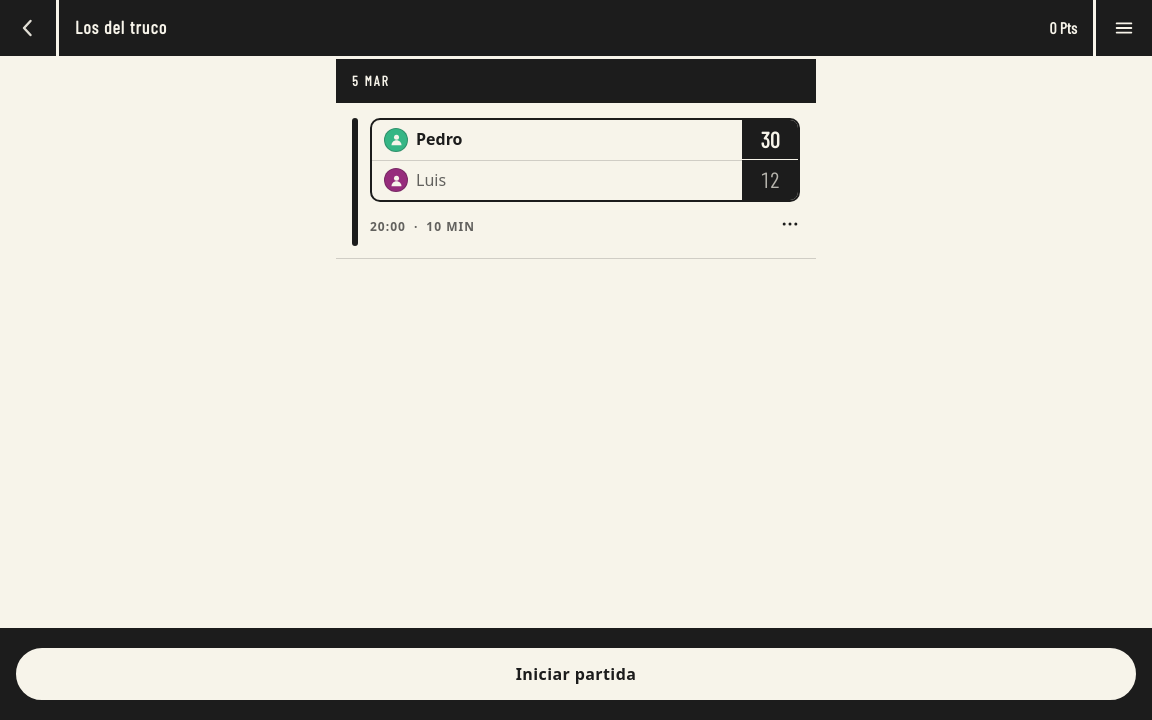
cancelar y restaurar partidas › quien no es administrador ni la registró no ve las opciones
The image size is (1152, 720).
Expected: the element with test id "partida" is shown, x1=336 y1=106 x2=816 y2=259
El menú solo ofrece ver el historial: no hay cancelar ni restaurar.
Click the button named "Opciones de la partida": (790, 224) x1=768 y1=202 x2=812 y2=246
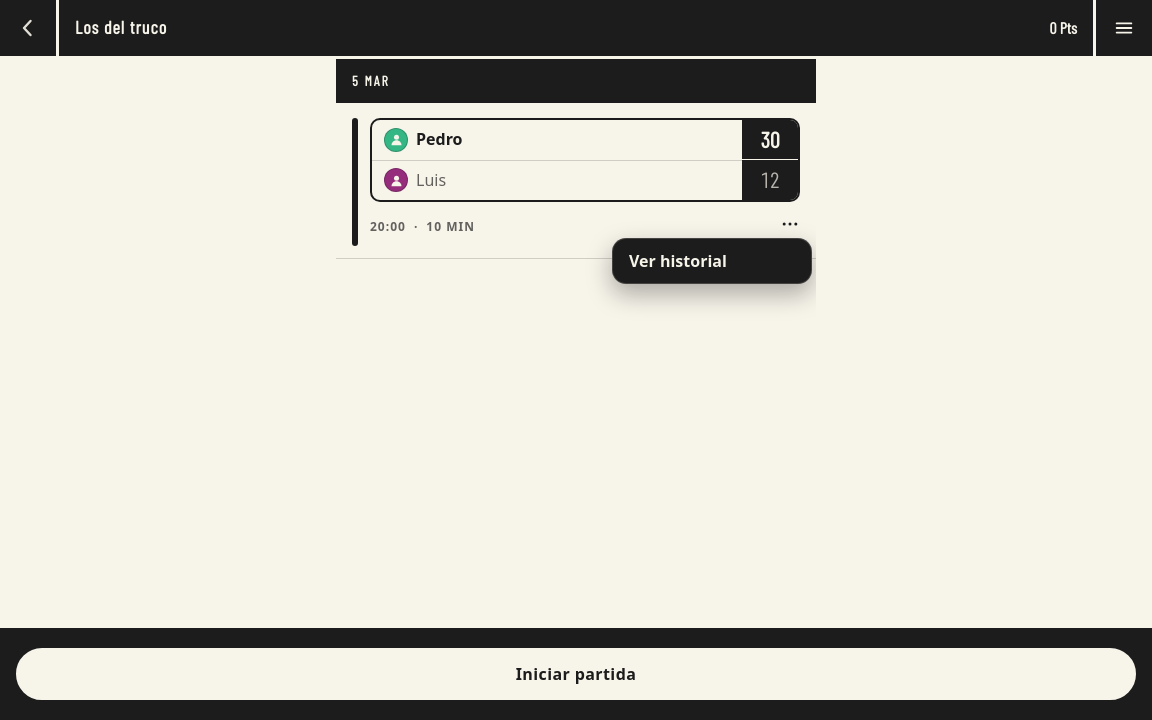
Expected: the menu item "Ver historial" is shown, x1=613 y1=239 x2=811 y2=283
